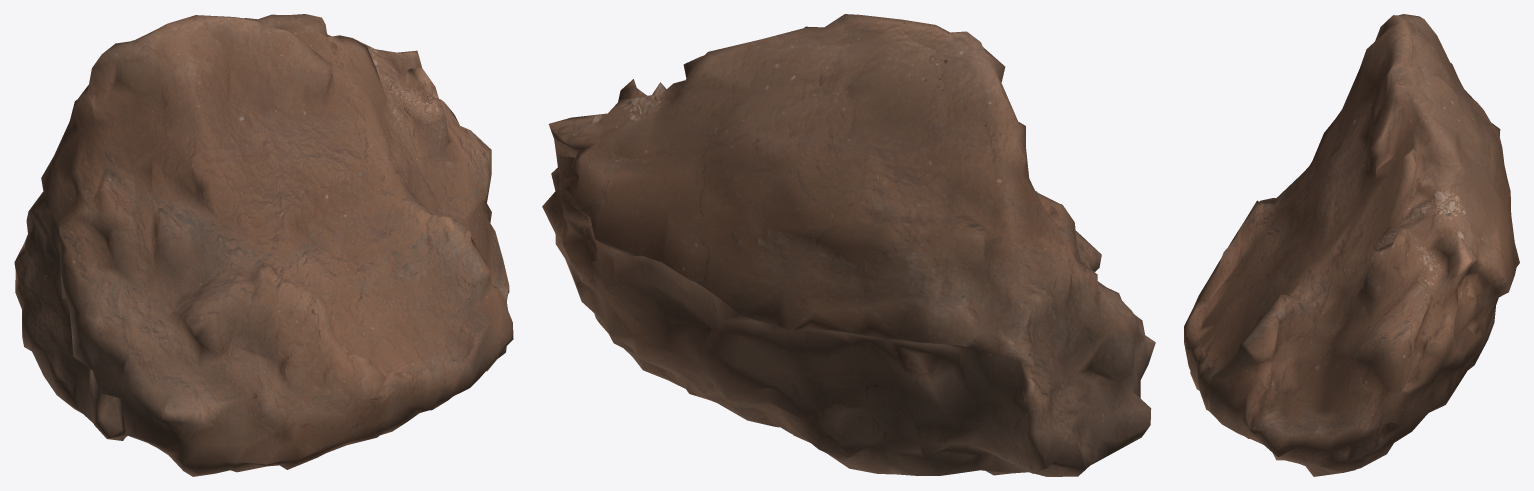
Rendered from mud_rock_xd0mcf2_mid.glb.
3 renders of one model, left to right at view 1: azimuth 30°, elevation 25°; view 2: azimuth 150°, elevation 25°; view 3: azimuth 270°, elevation 25°, orthographic. The views are drawn at different scales.
Parts seen in each view (by area): view 1: xd0mcf2_LOD0_TIER2_000; view 2: xd0mcf2_LOD0_TIER2_000; view 3: xd0mcf2_LOD0_TIER2_000.
Boxes of the visible parts, bbox=[...] form: xd0mcf2_LOD0_TIER2_000: bbox=[14, 14, 513, 476]; xd0mcf2_LOD0_TIER2_000: bbox=[542, 14, 1155, 476]; xd0mcf2_LOD0_TIER2_000: bbox=[1184, 14, 1519, 476].
Bounding box in the file's own units: 2.54 × 2.1 × 1.81.
1 material, 1 textured.
